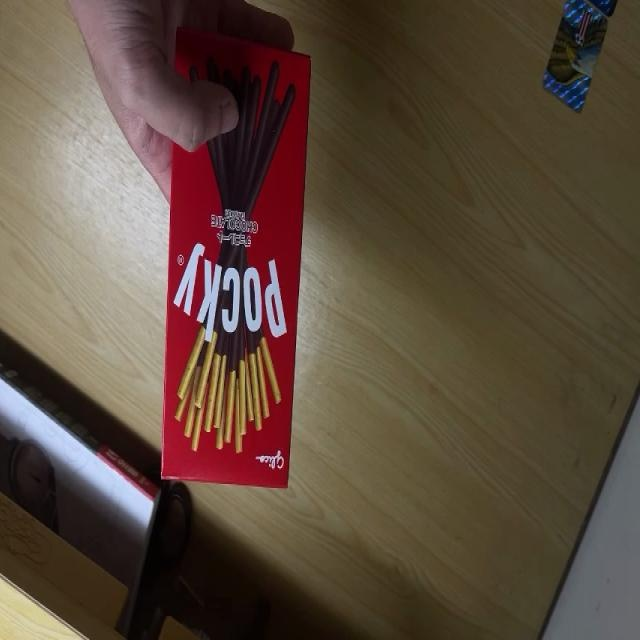Pocky: (161, 19, 314, 492)
